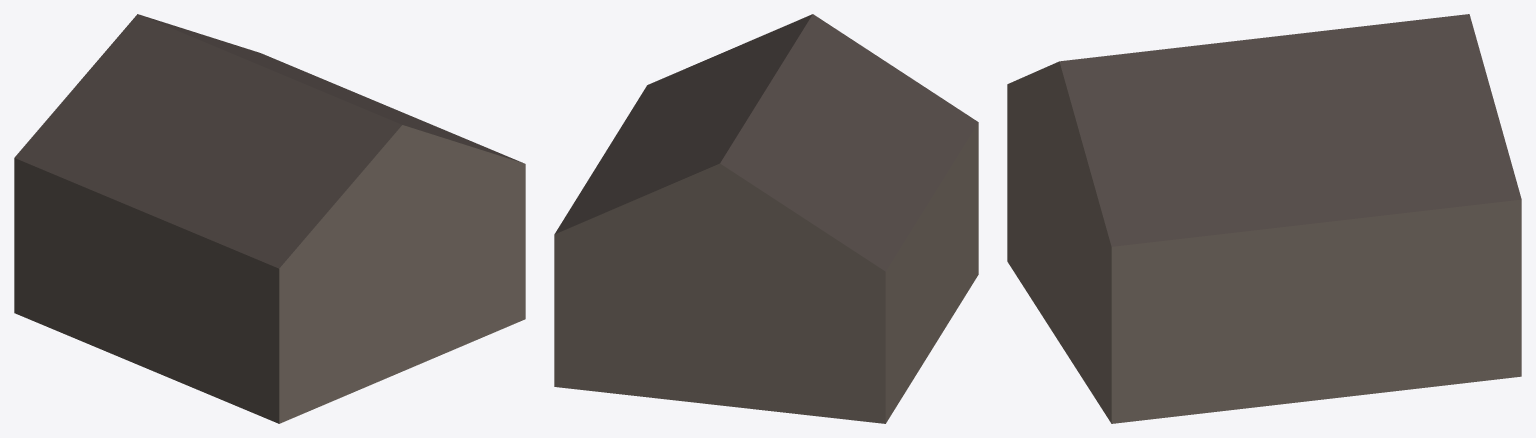
3 renders of one model, left to right at view 1: azimuth 30°, elevation 25°; view 2: azimuth 150°, elevation 25°; view 3: azimuth 270°, elevation 25°, orthographic. The views are drawn at different scales.
Parts seen in each view (by area): view 1: HP-w1376988851; view 2: HP-w1376988851; view 3: HP-w1376988851.
Boxes of the visible parts, box(x1,y1,x2,y2) form: HP-w1376988851: box(14, 14, 525, 423); HP-w1376988851: box(554, 14, 978, 423); HP-w1376988851: box(1007, 14, 1521, 423).
Size of the model in its own units: 15.26 by 9.53 by 15.8.
